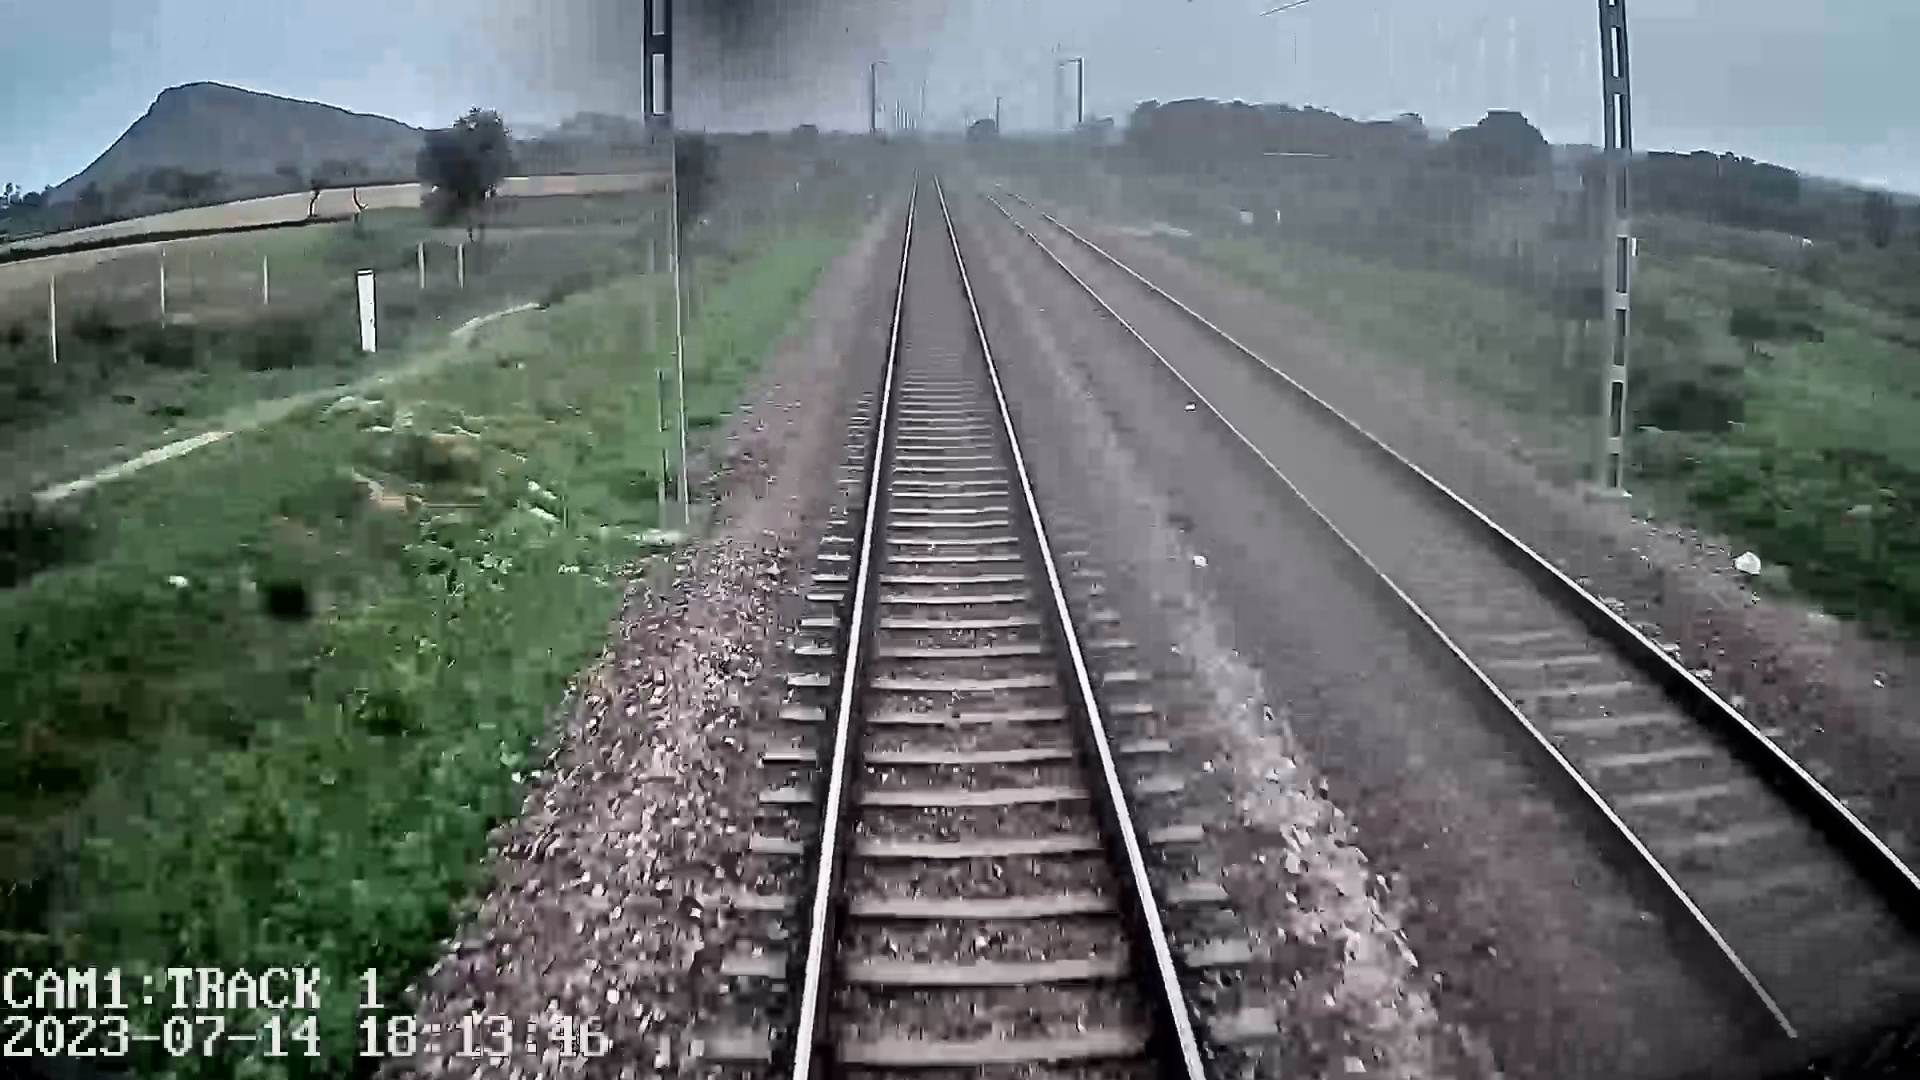track1: (799, 173, 1197, 1068)
track2: (993, 195, 1919, 1026)
